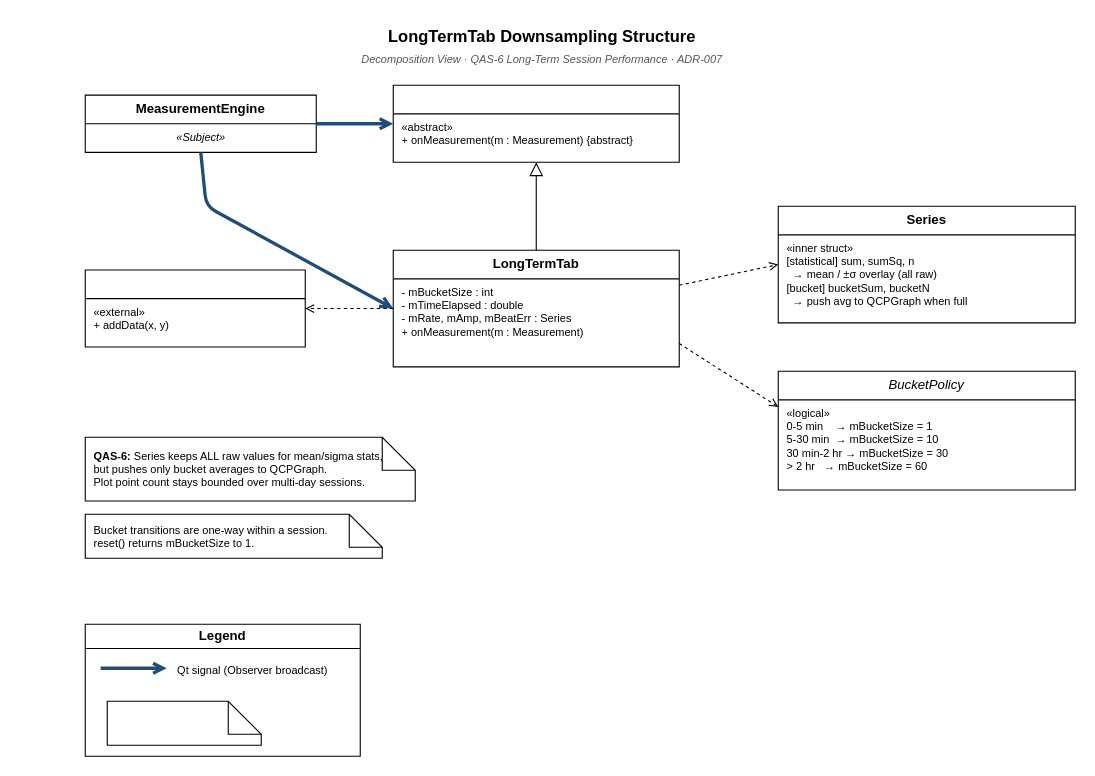
Some shapes in this 1095 by 776 pixel diagram are drawn without their labels. Each missing label, with the box of its shape:
BaseGraphTab: (392, 84, 679, 162)
Notation: UML: (106, 700, 261, 745)
QCPGraph: (84, 269, 305, 347)
